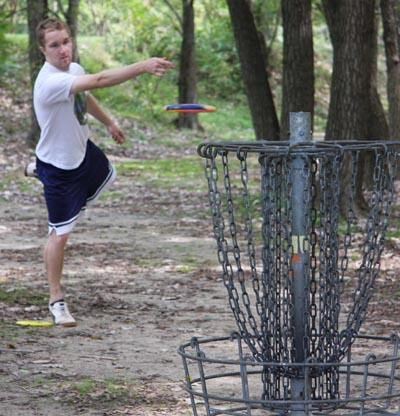person: (33, 19, 174, 327)
